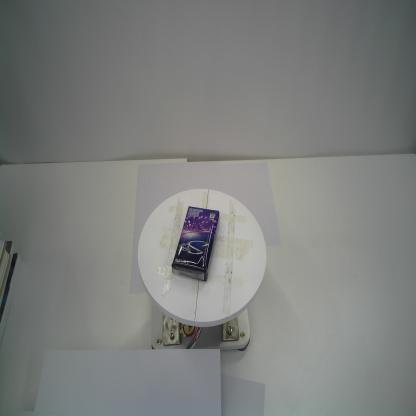Gum: (171, 205, 221, 281)
